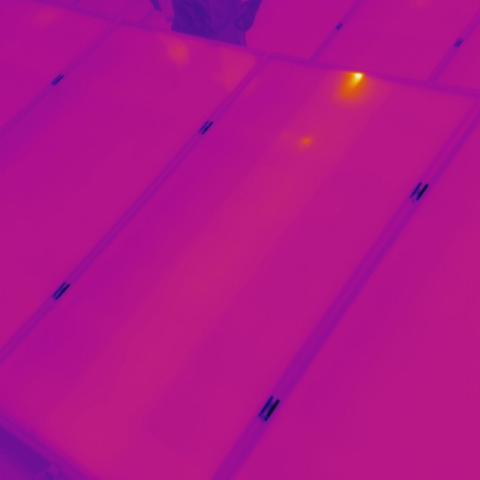fault: (342, 68, 370, 90)
